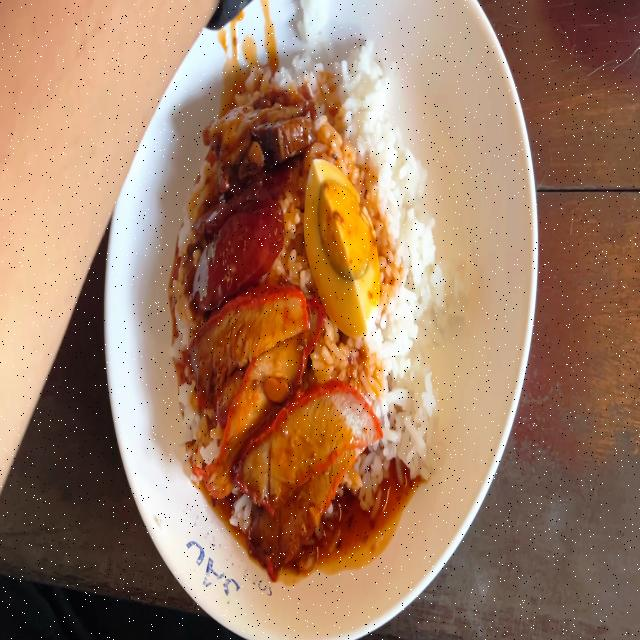boiled_egg: (310, 166, 374, 332)
chainese_sausage: (184, 186, 279, 287)
crispy_pork: (210, 86, 320, 166)
red_pork: (184, 302, 320, 548), (313, 376, 379, 502)
red_pork_and_crispy_pork: (183, 45, 443, 560)
rice: (375, 166, 443, 406), (328, 48, 418, 164), (375, 412, 432, 506)
